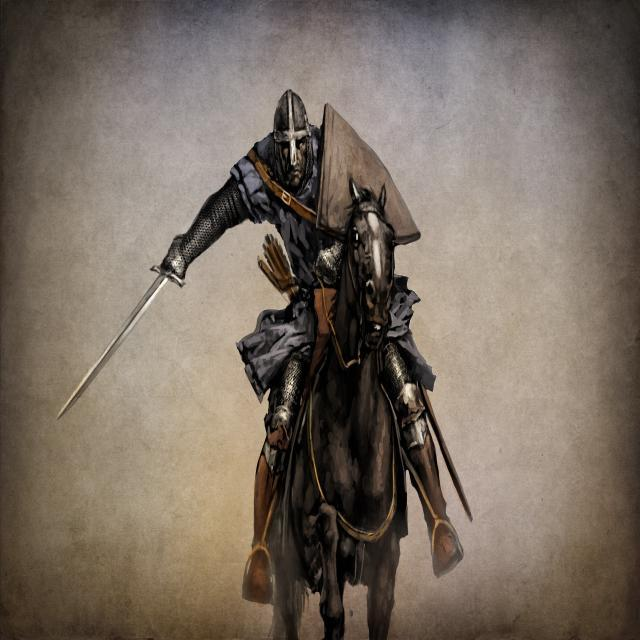sword: (57, 256, 188, 425)
